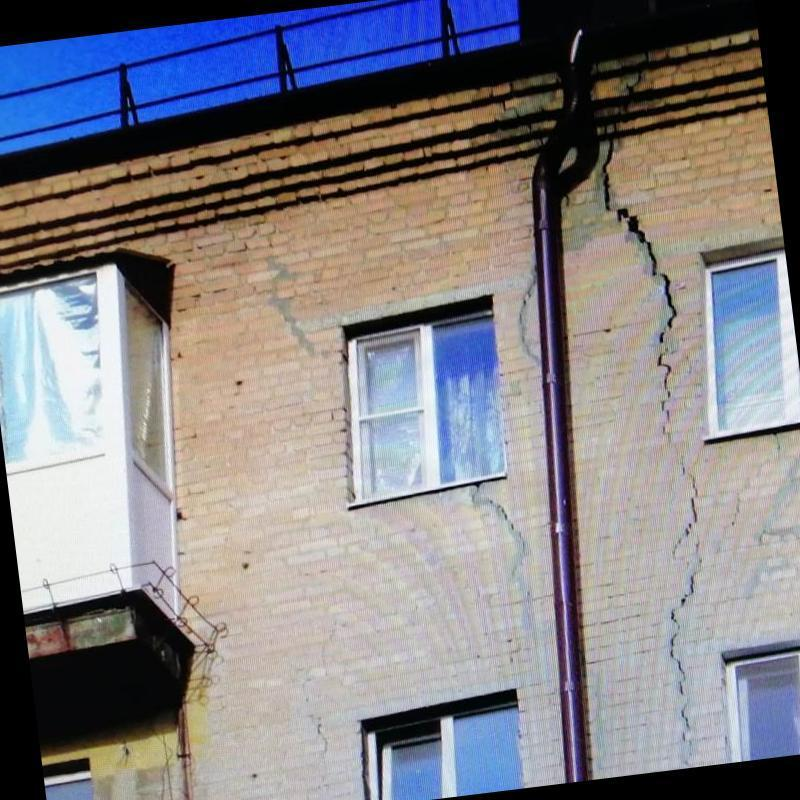crack: (617, 207, 657, 275), (518, 272, 540, 364), (486, 496, 524, 546), (668, 632, 687, 696), (660, 272, 677, 329), (602, 137, 613, 209), (678, 570, 697, 608), (657, 351, 672, 397), (501, 99, 521, 120), (627, 69, 642, 95), (690, 476, 698, 524), (680, 707, 690, 742), (668, 605, 681, 630), (470, 482, 483, 504), (660, 398, 670, 421), (683, 522, 693, 536), (508, 80, 516, 94), (644, 50, 650, 63), (658, 331, 664, 344), (526, 121, 531, 133), (681, 466, 687, 476), (614, 121, 618, 134), (603, 123, 607, 135), (540, 137, 544, 148)
